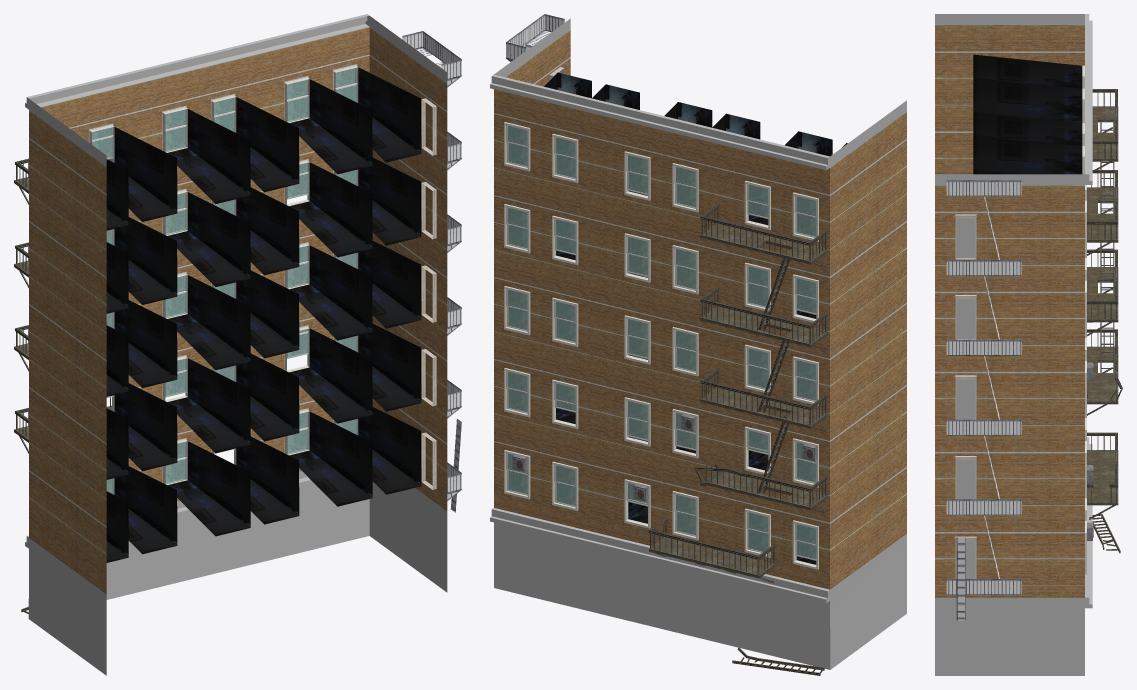
The model's file is Building_06.fbx.
3 renders of one model, left to right at view 1: azimuth 30°, elevation 25°; view 2: azimuth 150°, elevation 25°; view 3: azimuth 270°, elevation 25°, orthographic. The views are drawn at different scales.
Parts seen in each view (by area): view 1: Building_06; view 2: Building_06; view 3: Building_06.
Boxes of the visible parts, x1=… form: Building_06: x1=14, y1=14, x2=461, y2=675; Building_06: x1=490, y1=14, x2=906, y2=675; Building_06: x1=935, y1=14, x2=1122, y2=675.
Bounding box in the file's own units: 1908 × 2607 × 879.
